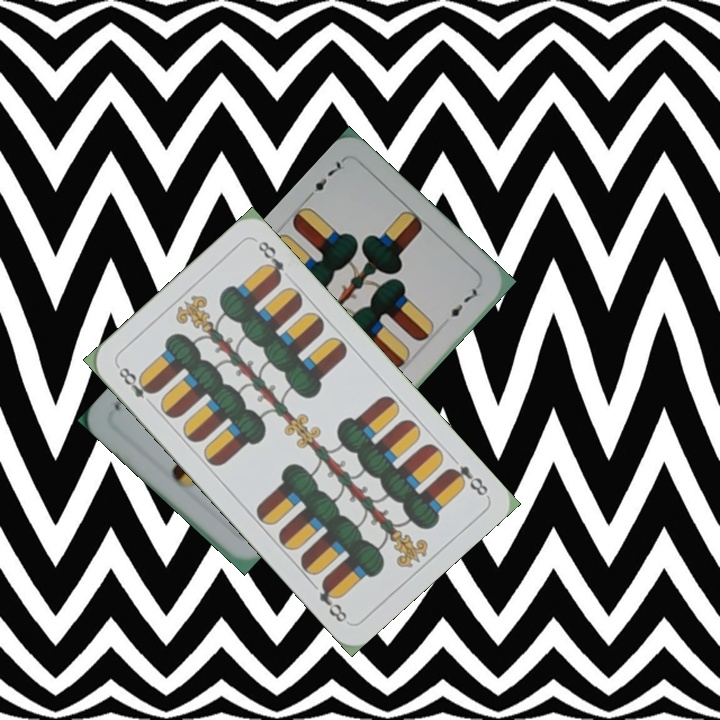E7: (302, 155, 347, 203)
E8: (113, 361, 158, 402), (443, 461, 491, 499)
